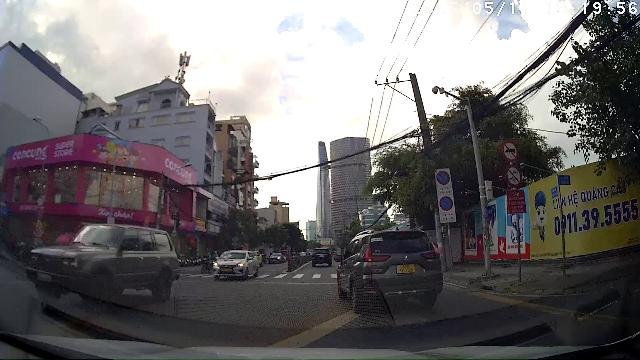130-cam-dung-va-do-xe: (436, 170, 450, 186)
131a-cam-do-xe: (439, 195, 453, 211)
